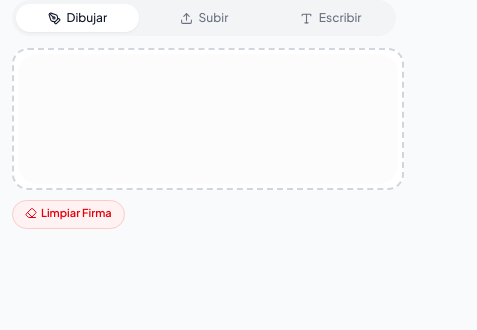
Test: FirmaDigitalCanvas - 3 Modos › permite cambiar a modo tipográfica con estilos
Click the button "Escribir" at (331, 18), box [269, 4, 392, 32]
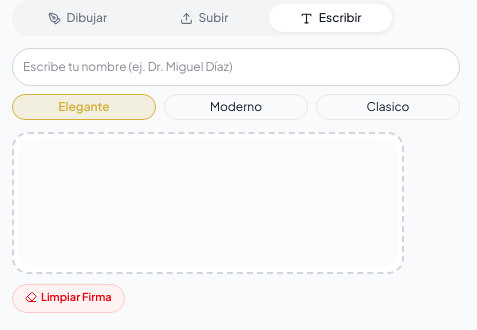
Now the field with placeholder "Escribe tu nombre (ej. Dr. Miguel Díaz)" is shown, box [12, 48, 460, 86]
Now the button "elegante" is shown, box [12, 94, 156, 120]
Now the button "moderno" is shown, box [164, 94, 308, 120]
